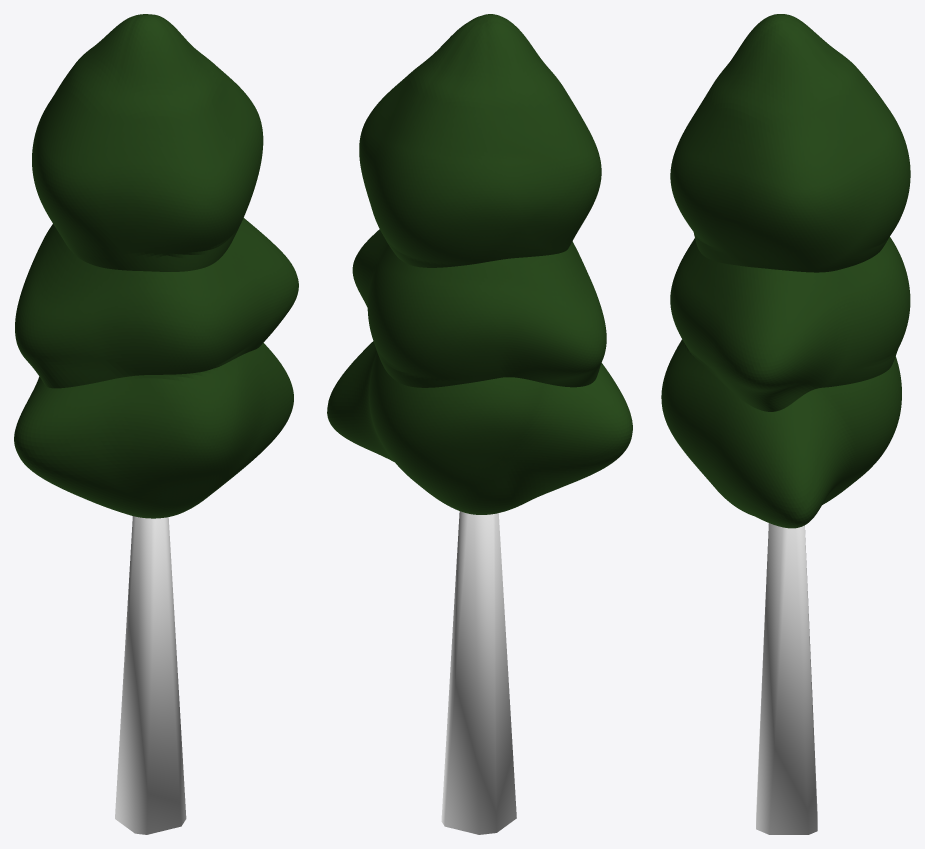
File: TreewMaterials.fbx
The picture shows the model from 3 angles, left to right: view 1: azimuth 30°, elevation 25°; view 2: azimuth 150°, elevation 25°; view 3: azimuth 270°, elevation 25°; orthographic projection.
Parts seen in each view (by area): view 1: Icosphere.002, Icosphere, Icosphere.001, Cube; view 2: Icosphere.002, Icosphere, Icosphere.001, Cube; view 3: Icosphere.002, Icosphere.001, Icosphere, Cube.
Boxes of the visible parts, x1,y1,x2,y2 form: Icosphere.002: (32, 14, 263, 271); Icosphere: (14, 343, 293, 518); Icosphere.001: (15, 218, 298, 388); Cube: (115, 516, 186, 834); Icosphere.002: (359, 14, 601, 267); Icosphere: (327, 341, 632, 514); Icosphere.001: (352, 229, 606, 387); Cube: (441, 511, 516, 834); Icosphere.002: (670, 14, 910, 272); Icosphere.001: (670, 236, 910, 411); Icosphere: (661, 339, 901, 528); Cube: (756, 523, 817, 834).
Bounding box in the file's own units: 574 × 1541 × 434.
